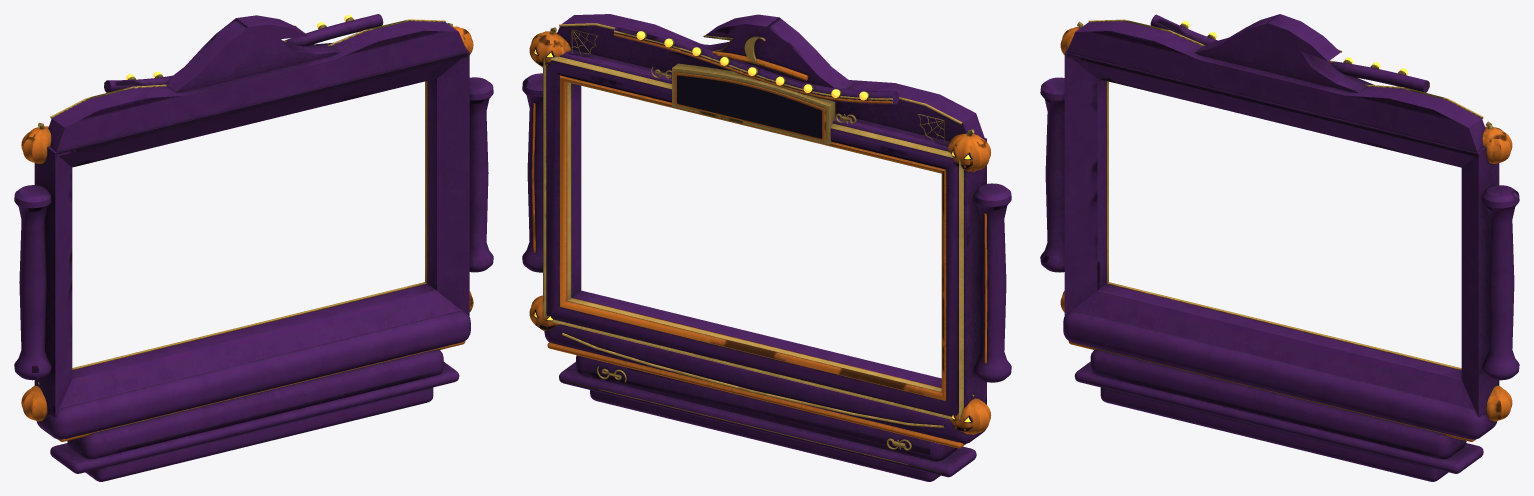
3 views of the same model, side by side, from view 1: azimuth 30°, elevation 25°; view 2: azimuth 150°, elevation 25°; view 3: azimuth 330°, elevation 25° (orthographic). The views are drawn at different scales.
Parts seen in each view (by area): view 1: Plum_lacquer, Pumpkin_enamel, Gold_piping; view 2: Plum_lacquer, Pumpkin_enamel, Gold_piping, Dark_plum_inset, Orange_lantern_eyes_glow; view 3: Plum_lacquer, Pumpkin_enamel, Gold_piping.
Part boxes in pixels (<box>): Plum_lacquer: <box>14,14,493,481</box>; Pumpkin_enamel: <box>21,26,473,441</box>; Gold_piping: <box>38,17,453,384</box>; Plum_lacquer: <box>522,14,1011,481</box>; Pumpkin_enamel: <box>529,31,991,448</box>; Gold_piping: <box>543,23,974,473</box>; Dark_plum_inset: <box>533,47,972,431</box>; Orange_lantern_eyes_glow: <box>534,31,970,422</box>; Plum_lacquer: <box>1040,14,1519,481</box>; Pumpkin_enamel: <box>1060,26,1512,441</box>; Gold_piping: <box>1077,19,1492,369</box>.
Size of the model in its own units: 10.72 by 8.9 by 1.25.
Materials: 5 (4 with a texture image).
